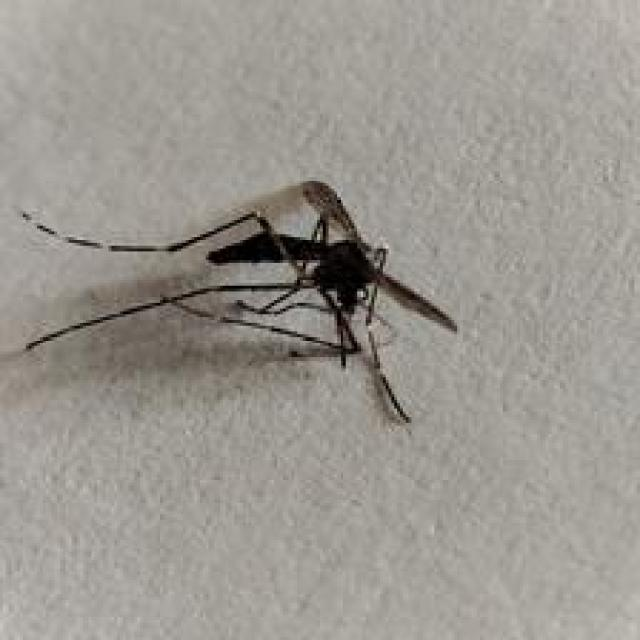Aedes albopictus: (19, 177, 458, 426)
